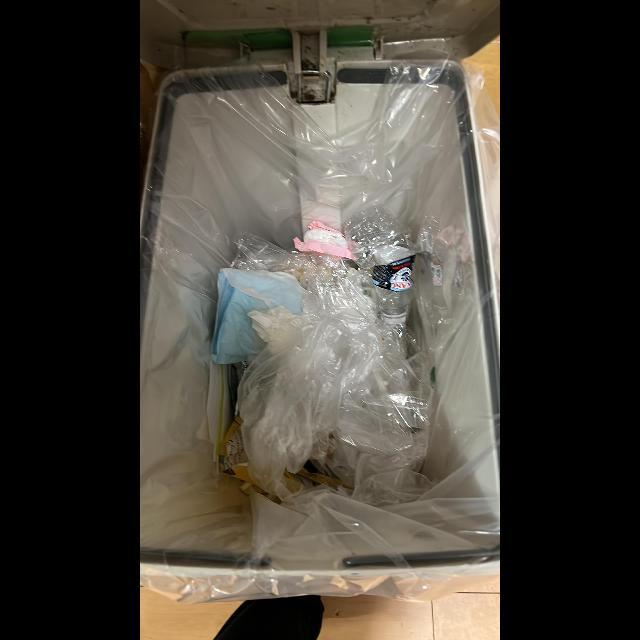plastic: (235, 293, 383, 503), (344, 207, 421, 328)
